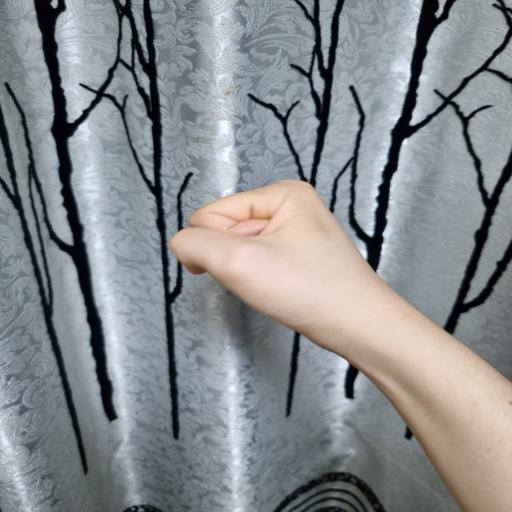Rock: (168, 179, 394, 364)
